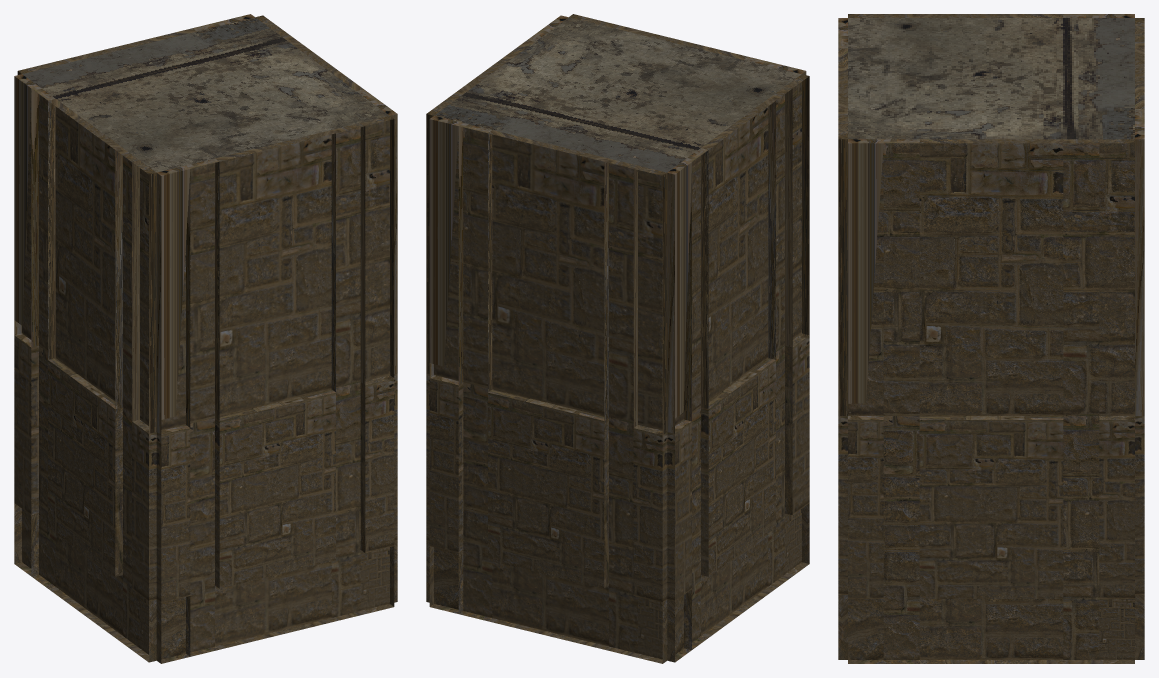
The model's file is Dungeon.glb.
3 renders of one model, left to right at view 1: azimuth 30°, elevation 25°; view 2: azimuth 150°, elevation 25°; view 3: azimuth 270°, elevation 25°, orthographic. The views are drawn at different scales.
Visible parts, largest first — view 1: Wall_S, Wall_W, Ceiling, Wall_E, Wall_N; view 2: Wall_N, Wall_W, Ceiling, Wall_E, Wall_S; view 3: Wall_E, Ceiling, Wall_N, Wall_S, Wall_W.
Part boxes in pixels (x1,y1,x2,y2): Wall_S: (156, 116, 394, 663); Wall_W: (14, 74, 156, 662); Ceiling: (22, 17, 389, 172); Wall_E: (255, 15, 397, 602); Wall_N: (17, 14, 254, 74); Wall_N: (429, 116, 667, 663); Wall_W: (667, 74, 809, 662); Ceiling: (434, 17, 801, 172); Wall_E: (426, 15, 568, 602); Wall_S: (569, 14, 806, 74); Wall_E: (848, 139, 1134, 663); Ceiling: (848, 18, 1134, 139); Wall_N: (1135, 18, 1144, 659); Wall_S: (838, 18, 847, 659); Wall_W: (848, 14, 1134, 17).
Bounding box in the file's own units: 6.4 × 12 × 6.4.
2 materials, 2 textured.
